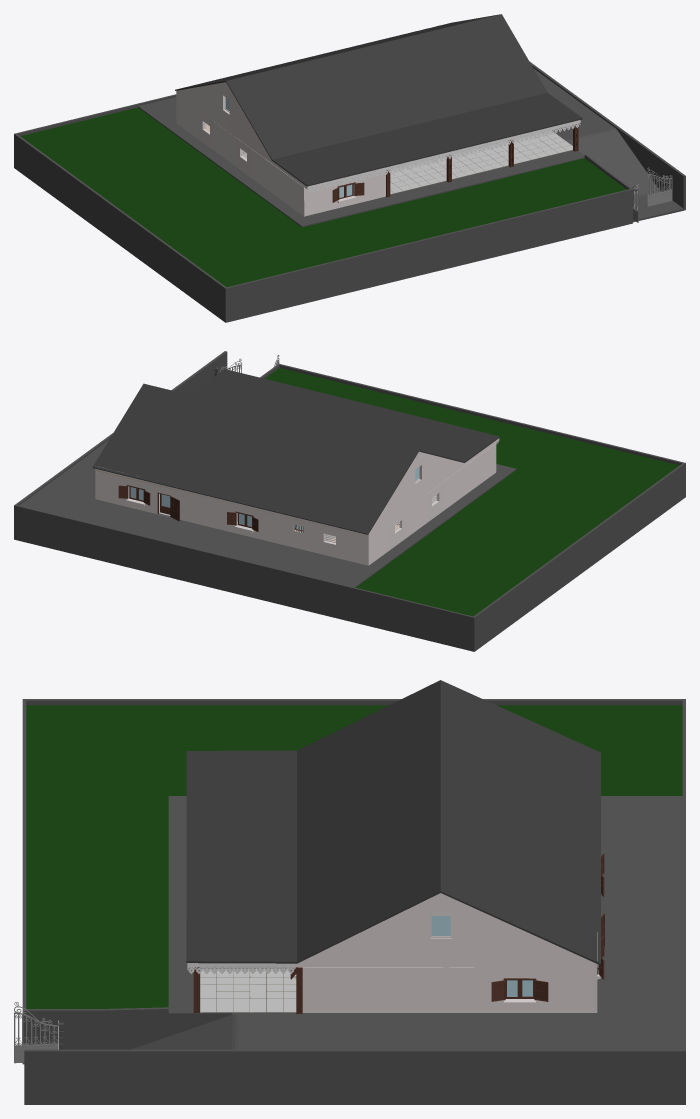
The model's file is house.fbx.
3 views of the same model, one above another, from view 1: azimuth 30°, elevation 25°; view 2: azimuth 150°, elevation 25°; view 3: azimuth 270°, elevation 25° (orthographic). The views are drawn at different scales.
Visible parts, largest first — view 1: toit, herbe, Cube.006, beton_ext, sol_veranda, mur4.018, bordure, mur4.007, mur4.005, portail.001, mur4.012, mur4.016 (+4 smaller); view 2: toit, herbe, Cube.006, beton_ext, mur4.018, mur4.007, mur.013, mur.014, mur.015, mur.016, mur.019, mur.011 (+8 smaller); view 3: toit, herbe, beton_ext, Cube.006, mur4.019, mur.004, sol_veranda, mur.007, mur.009, mur.008, portail, bordure.001.
Part boxes in pixels (x1=…): toit: x1=175, y1=14, x2=582, y2=186; herbe: x1=20, y1=107, x2=626, y2=287; Cube.006: x1=14, y1=61, x2=685, y2=322; beton_ext: x1=138, y1=69, x2=683, y2=227; sol_veranda: x1=390, y1=130, x2=572, y2=194; mur4.018: x1=177, y1=82, x2=309, y2=189; bordure: x1=308, y1=121, x2=579, y2=193; mur4.007: x1=265, y1=159, x2=302, y2=214; mur4.005: x1=302, y1=184, x2=334, y2=216; portail.001: x1=647, y1=167, x2=672, y2=206; mur4.012: x1=214, y1=122, x2=235, y2=165; mur4.016: x1=177, y1=95, x2=198, y2=138; toit: x1=92, y1=369, x2=499, y2=534; herbe: x1=265, y1=368, x2=679, y2=616; Cube.006: x1=14, y1=351, x2=685, y2=651; beton_ext: x1=19, y1=364, x2=516, y2=587; mur4.018: x1=369, y1=438, x2=499, y2=535; mur4.007: x1=457, y1=444, x2=495, y2=500; mur.013: x1=194, y1=495, x2=230, y2=531; mur.014: x1=258, y1=510, x2=287, y2=545; mur.015: x1=341, y1=530, x2=369, y2=565; mur.016: x1=313, y1=523, x2=341, y2=558; mur.019: x1=286, y1=517, x2=313, y2=551; mur.011: x1=95, y1=470, x2=122, y2=505; toit: x1=186, y1=680, x2=600, y2=964; herbe: x1=26, y1=705, x2=682, y2=1008; beton_ext: x1=24, y1=796, x2=682, y2=1049; Cube.006: x1=22, y1=699, x2=685, y2=1104; mur4.019: x1=187, y1=893, x2=593, y2=967; mur.004: x1=298, y1=967, x2=443, y2=1012; sol_veranda: x1=200, y1=968, x2=296, y2=1013; mur.007: x1=443, y1=967, x2=495, y2=1012; mur.009: x1=543, y1=967, x2=593, y2=1012; mur.008: x1=495, y1=967, x2=543, y2=1012; portail: x1=14, y1=1002, x2=57, y2=1063; bordure.001: x1=187, y1=963, x2=295, y2=974.
Bounding box in the file's own units: 13366 × 3101 × 10775.
